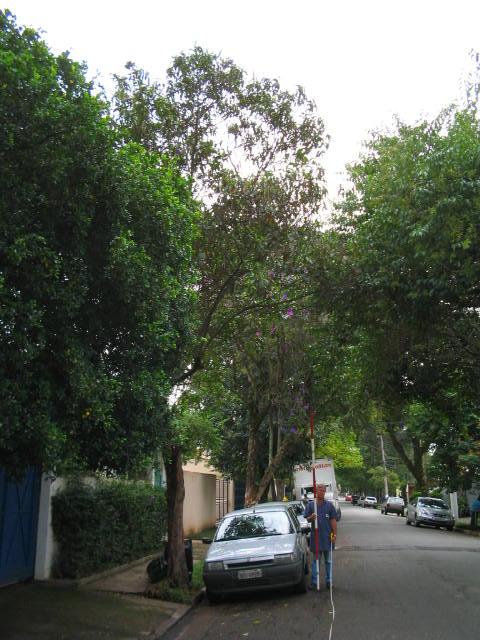crown: (97, 42, 344, 341)
stem: (153, 451, 203, 591)
stick: (304, 410, 326, 592)
tree: (94, 40, 347, 590)
